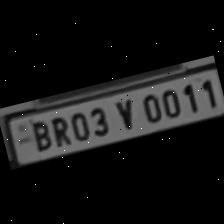0: (132, 88, 164, 127), (154, 84, 183, 120), (64, 107, 92, 144)
1: (192, 74, 222, 110), (174, 80, 200, 116)
3: (84, 100, 114, 139)
B: (25, 116, 53, 153)
R: (46, 112, 72, 148)
V: (102, 92, 140, 134)
